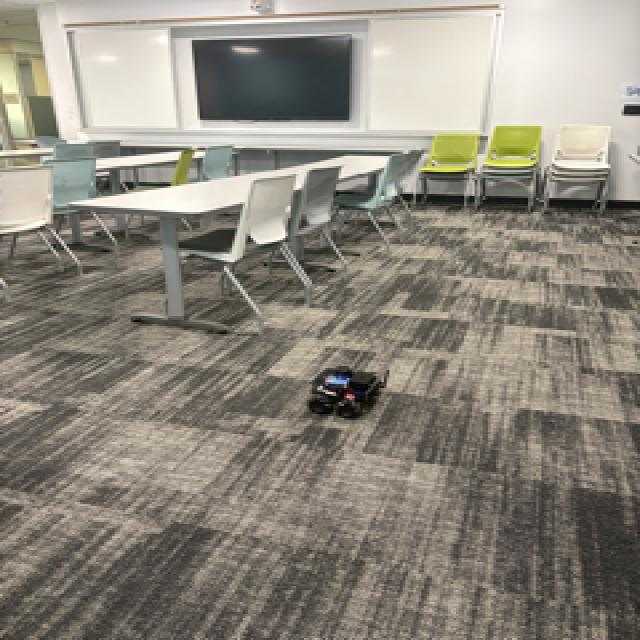ArduinoCar3: (306, 364, 390, 421)
